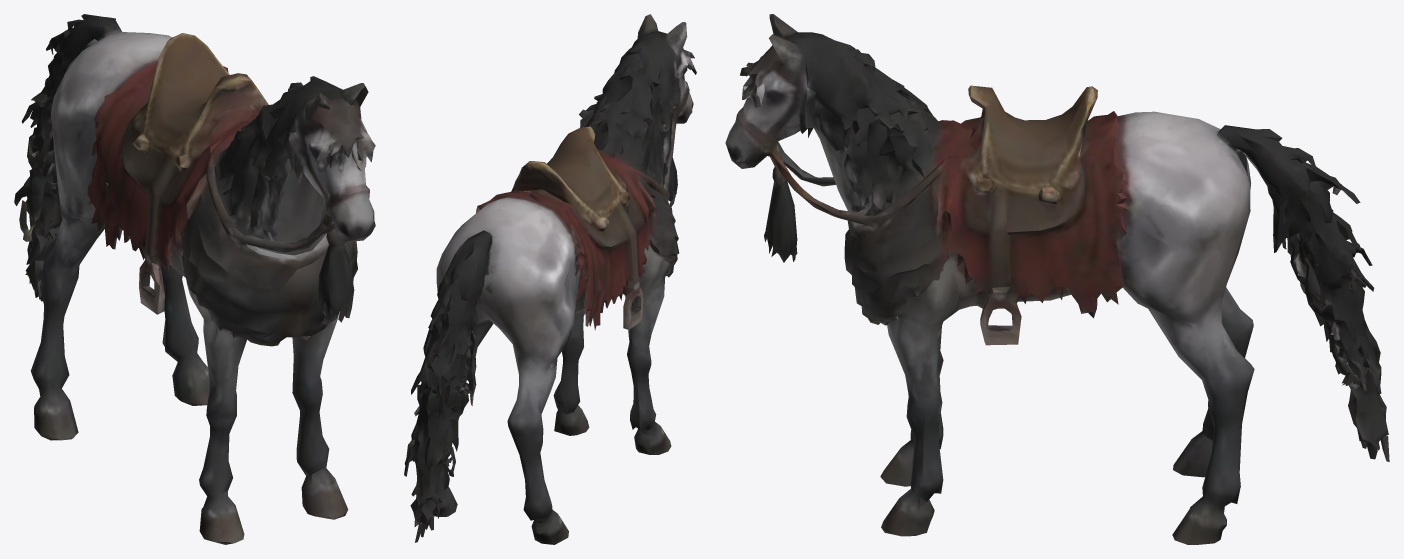
The model's file is ghost-horse.phone.glb.
3 views of the same model, side by side, from view 1: azimuth 30°, elevation 25°; view 2: azimuth 150°, elevation 25°; view 3: azimuth 270°, elevation 25° (orthographic). The views are drawn at different scales.
Visible parts, largest first — view 1: ghost-horse.hy.raw; view 2: ghost-horse.hy.raw; view 3: ghost-horse.hy.raw.
Part boxes in pixels (x1=…): ghost-horse.hy.raw: x1=14, y1=14, x2=375, y2=544; ghost-horse.hy.raw: x1=404, y1=14, x2=696, y2=544; ghost-horse.hy.raw: x1=725, y1=14, x2=1389, y2=544.
Bounding box in the file's own units: 0.7468 × 1.95 × 2.45.
Materials: 1 (1 with a texture image).
